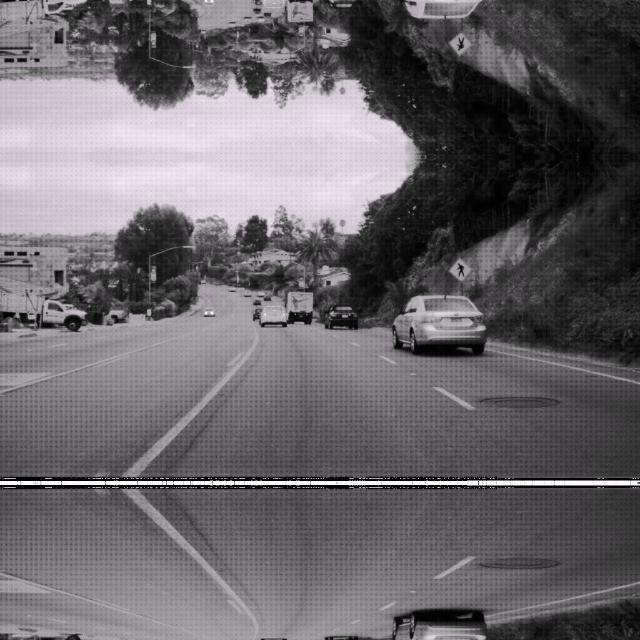pedestrianCrossing: (448, 256, 472, 280), (448, 32, 472, 56)
